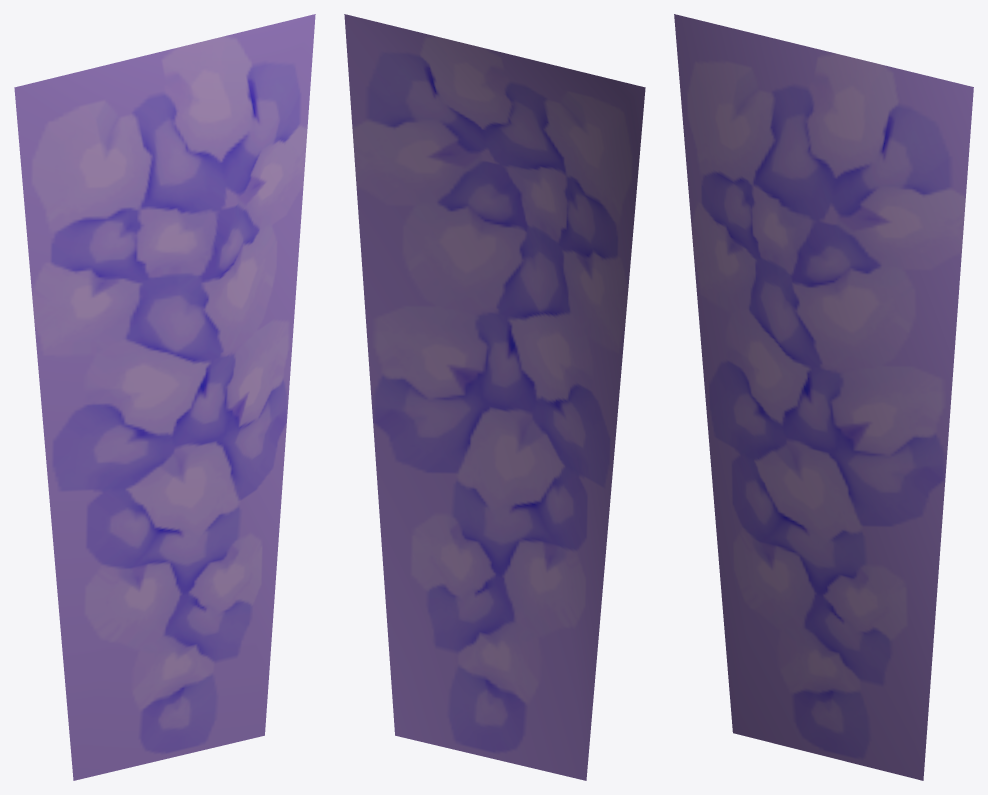
Rendered from SM_Env_Flowers_Line_04.fbx.
The picture shows the model from 3 angles, left to right: view 1: azimuth 30°, elevation 25°; view 2: azimuth 150°, elevation 25°; view 3: azimuth 330°, elevation 25°; orthographic projection.
Parts seen in each view (by area): view 1: SM_Env_Flowers_Line_04; view 2: SM_Env_Flowers_Line_04; view 3: SM_Env_Flowers_Line_04.
Boxes of the visible parts, left/top/right/bottom form: SM_Env_Flowers_Line_04: left=14, top=14, right=315, bottom=780; SM_Env_Flowers_Line_04: left=344, top=14, right=645, bottom=780; SM_Env_Flowers_Line_04: left=674, top=14, right=973, bottom=780.
Size of the model in its own units: 31.06 by 69.9 by 6.76.
